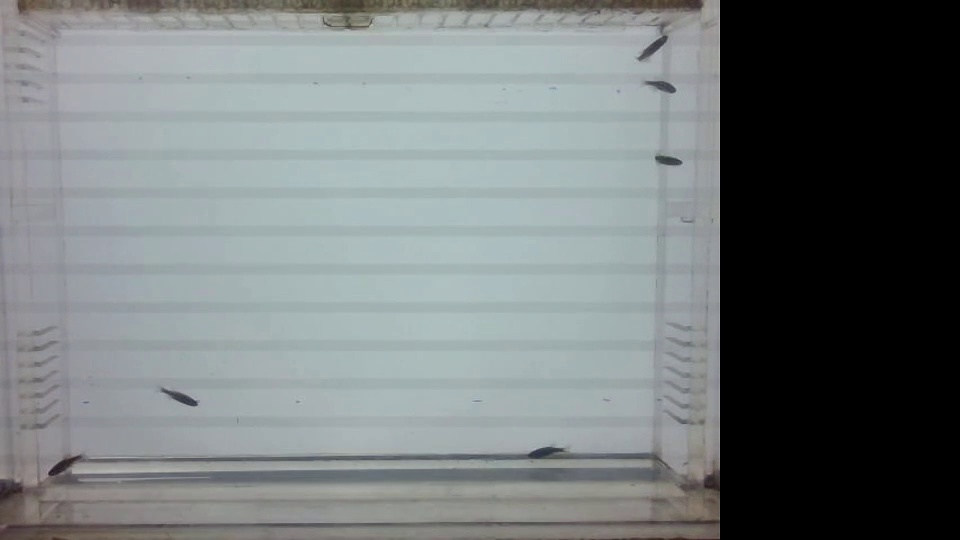fish: (153, 376, 200, 416), (36, 445, 88, 480), (624, 28, 673, 65), (520, 440, 576, 472), (636, 72, 684, 96), (645, 148, 684, 174)
